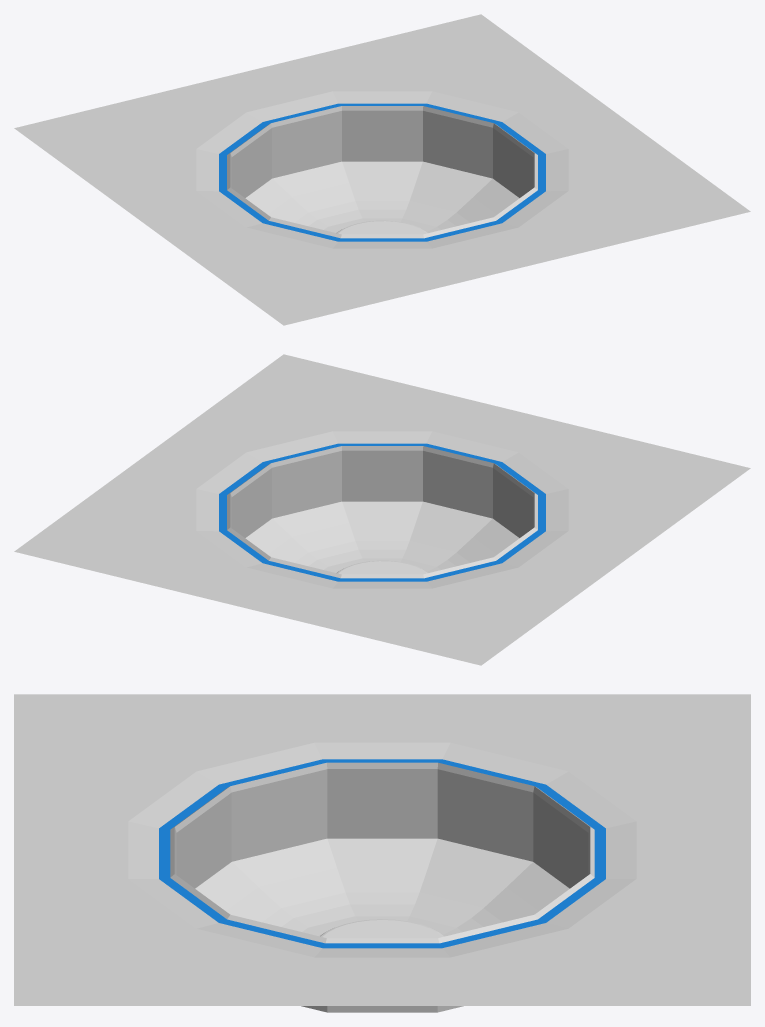
Rendered from PressurePlateRig 1.dae.
3 views of the same model, one above another, from view 1: azimuth 30°, elevation 25°; view 2: azimuth 150°, elevation 25°; view 3: azimuth 270°, elevation 25° (orthographic). The views are drawn at different scales.
Visible parts, largest first — view 1: Plane, Circle, Cylinder; view 2: Plane, Circle, Cylinder; view 3: Plane, Circle, Cylinder.
Part boxes in pixels (x1,y1,x2,y2): Plane: [14, 14, 750, 325]; Circle: [219, 103, 545, 241]; Cylinder: [336, 220, 428, 234]; Plane: [14, 354, 750, 665]; Circle: [219, 443, 545, 581]; Cylinder: [336, 560, 428, 574]; Plane: [14, 694, 750, 1012]; Circle: [159, 759, 605, 948]; Cylinder: [320, 919, 444, 938].
Bounding box in the file's own units: 10.18 × 10.18 × 1.98.
